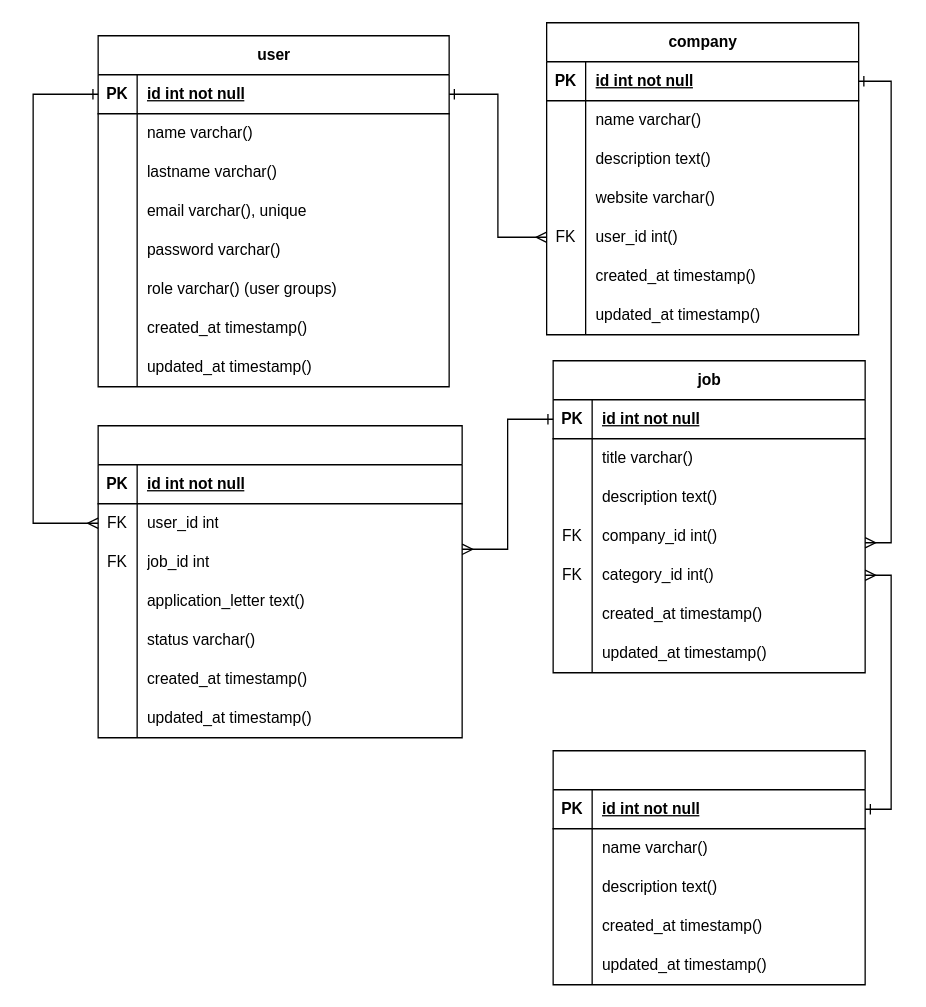
The diagram is 926 pixels wide and 1007 high, and some of its shapes have lost their labels. Here are the shapes that lost their labels. From the top down, the box of each, then its label:
(97, 424, 462, 738): application (will not be implemented yet)
(552, 749, 865, 985): category
